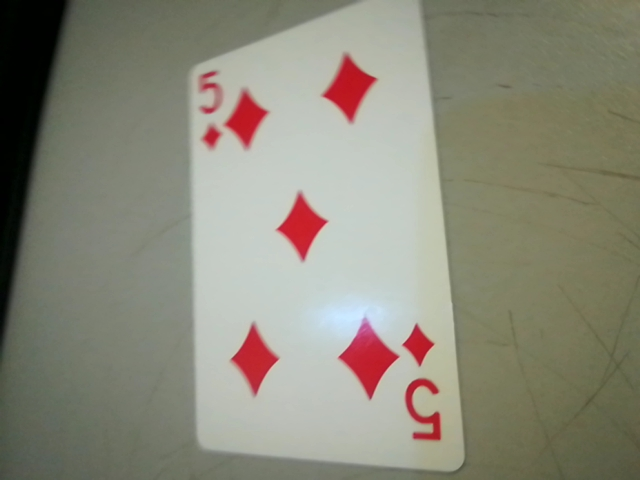fk 5: (393, 316, 456, 456)
